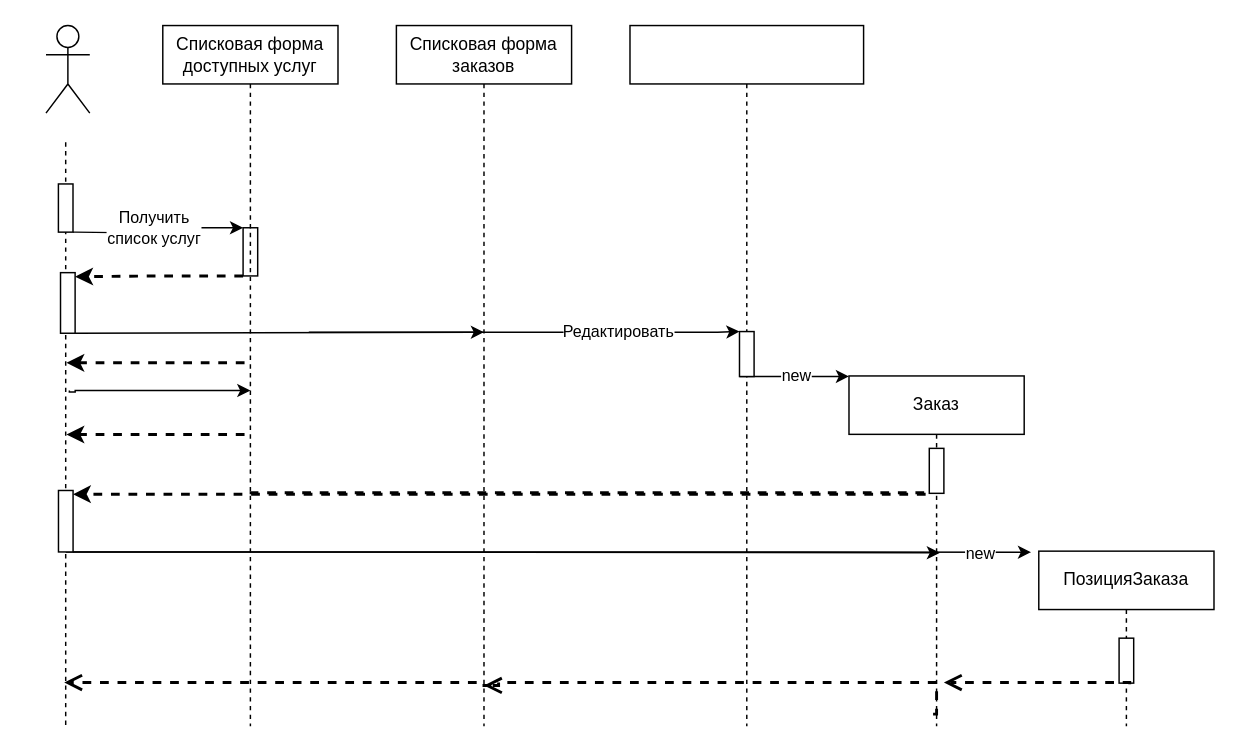
The diagram is 1240 pixels wide and 756 high, and some of its shapes have lost their labels. Here are the shapes that lost their labels. From the top down, the box of each, then its label:
(45, 24, 90, 113): Сотрудник
(629, 24, 864, 84): Форма редактирования заказов
